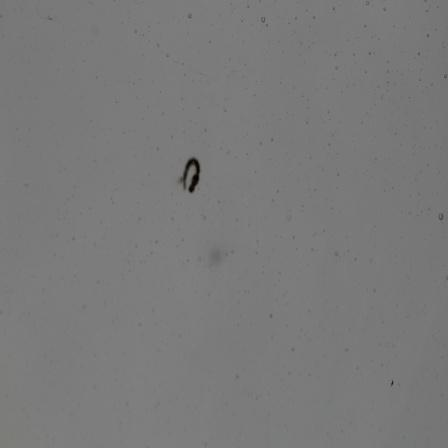Jentik-Nyamuk: (175, 152, 203, 197)
